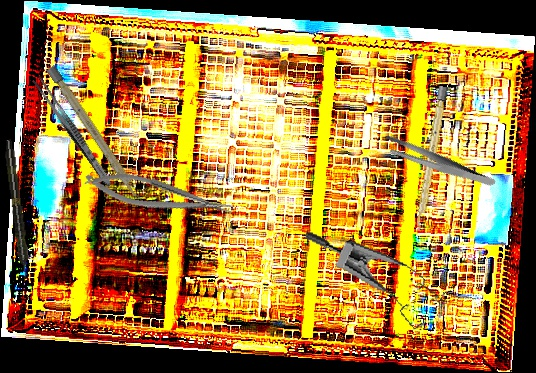Dressing Forceps: (380, 113, 497, 213), (30, 75, 116, 189)
Handpiece: (2, 138, 32, 283)
Needle Holder: (81, 162, 236, 229)
Scalpel Handle: (46, 64, 144, 204), (413, 85, 449, 232)
Speculum: (289, 228, 454, 336)
